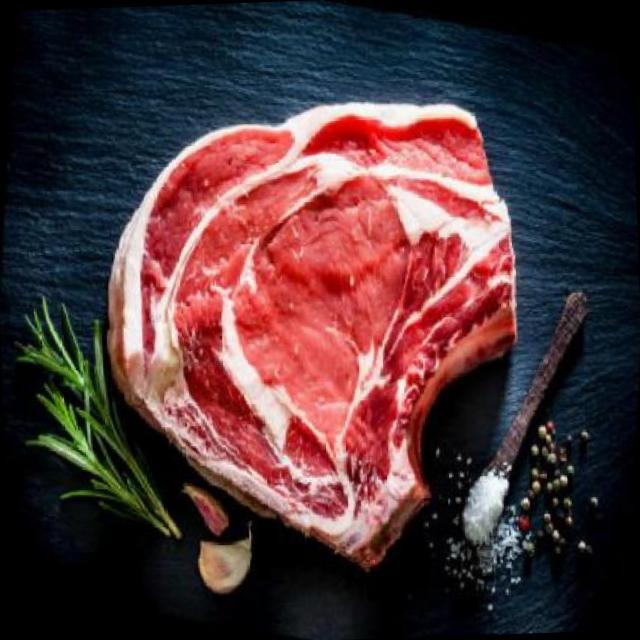beaf: (78, 36, 548, 610)
